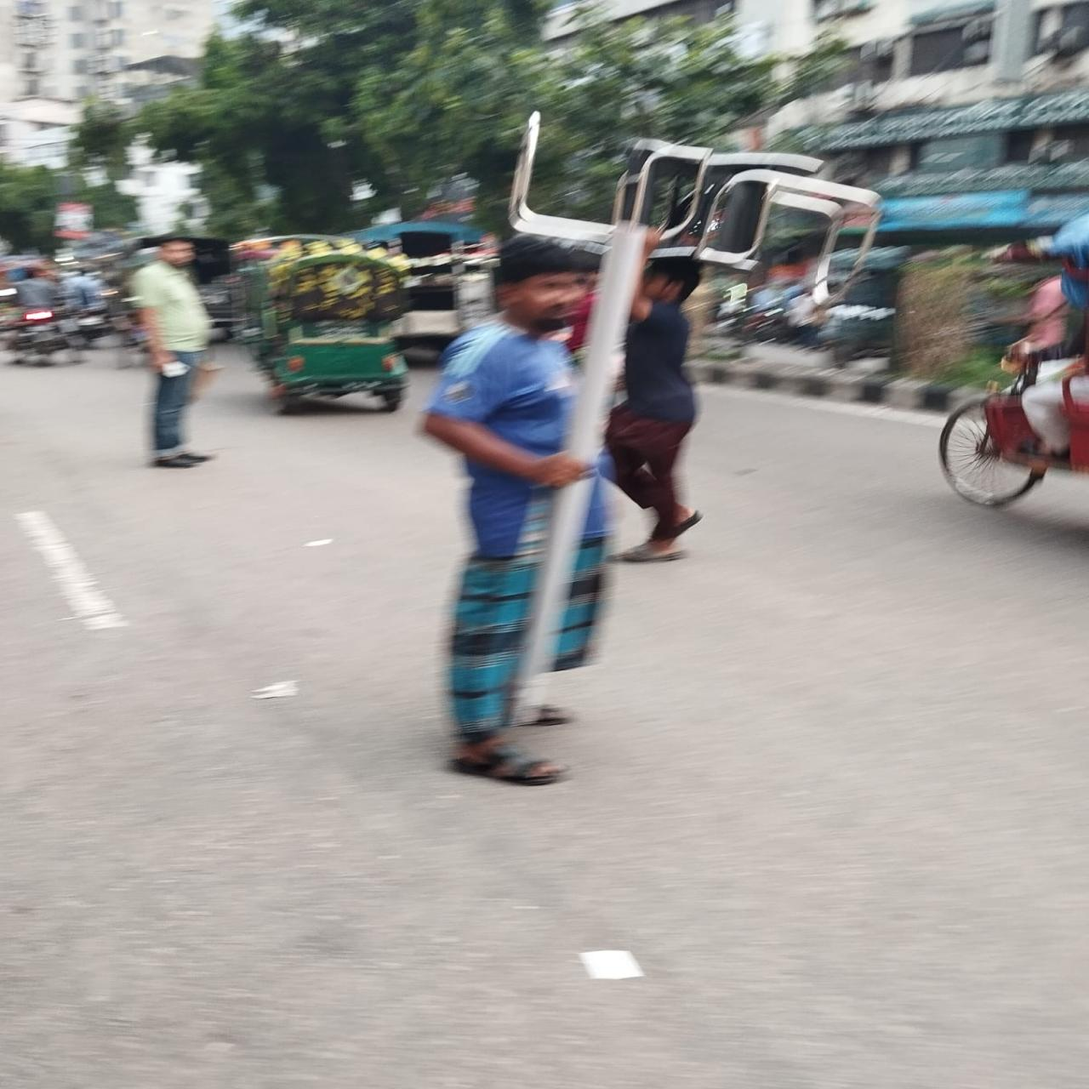person: (417, 237, 614, 786), (605, 257, 713, 553), (131, 235, 217, 472)
